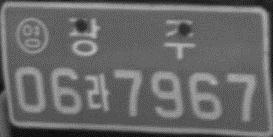0: (14, 66, 47, 114)
6: (187, 72, 223, 121), (50, 66, 83, 115)
7: (226, 71, 258, 123), (112, 69, 144, 117)
9: (149, 70, 185, 119)
광주_D: (66, 15, 196, 60)
라: (84, 73, 111, 113)
영: (15, 17, 49, 55)
